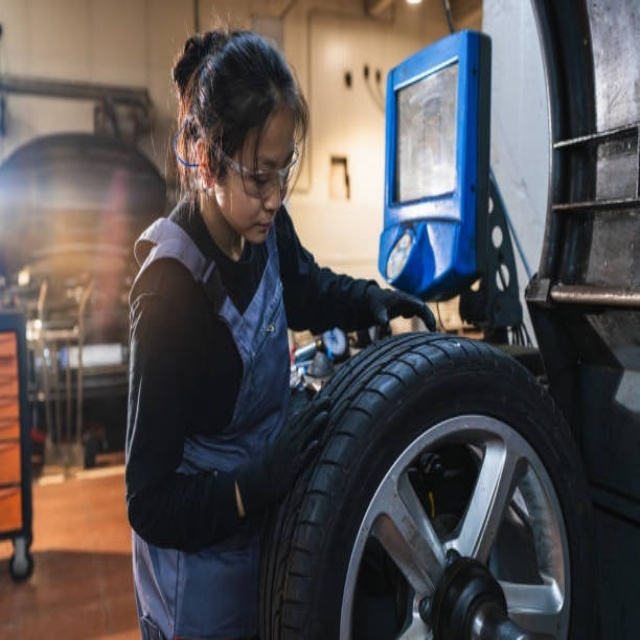Gafas: (200, 132, 299, 201)
Guantes: (267, 394, 329, 500), (368, 282, 437, 335)
Sin_mascara: (245, 216, 276, 248)
